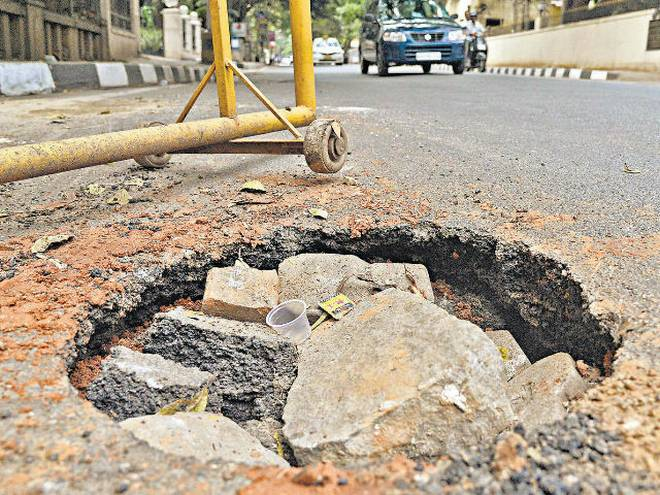pothole: (76, 196, 617, 466)
